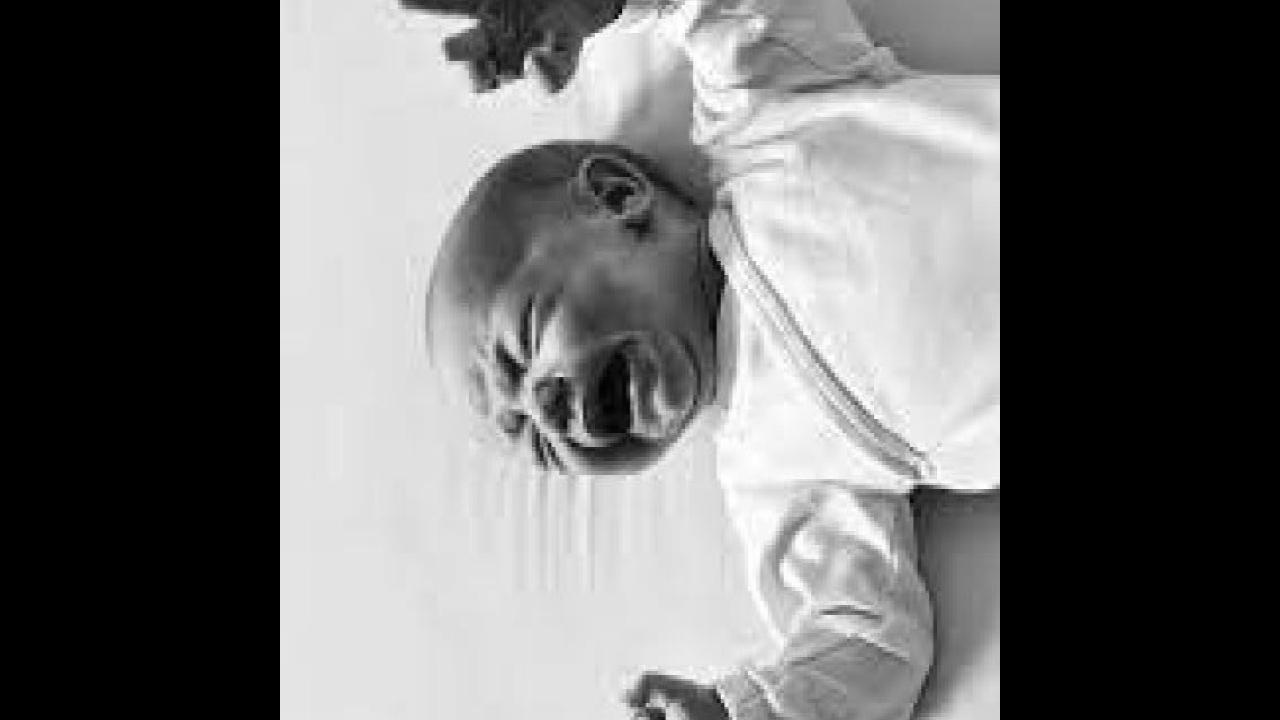hand: (397, 0, 576, 100), (595, 657, 737, 720)
